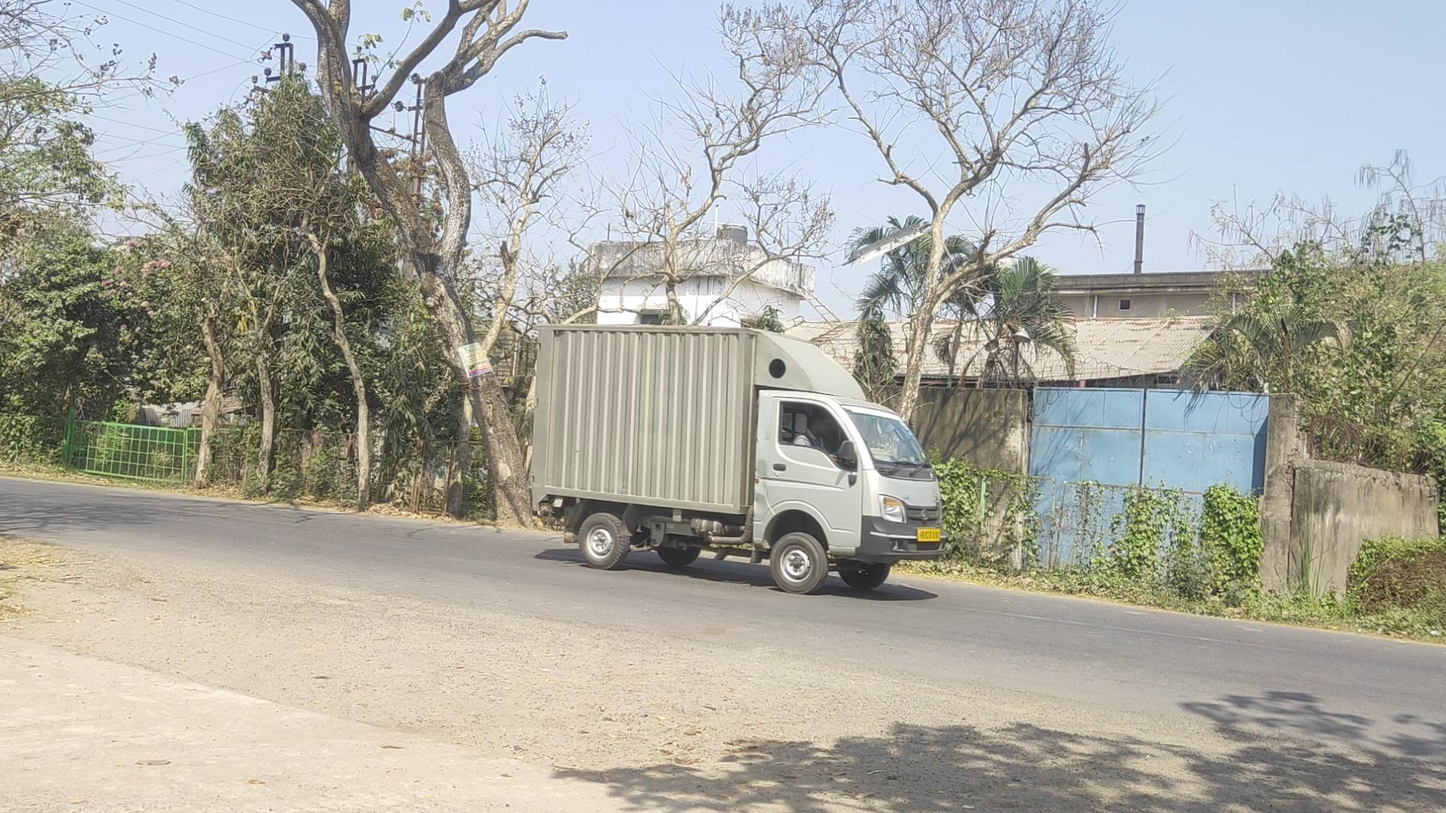van: (530, 322, 944, 596)
